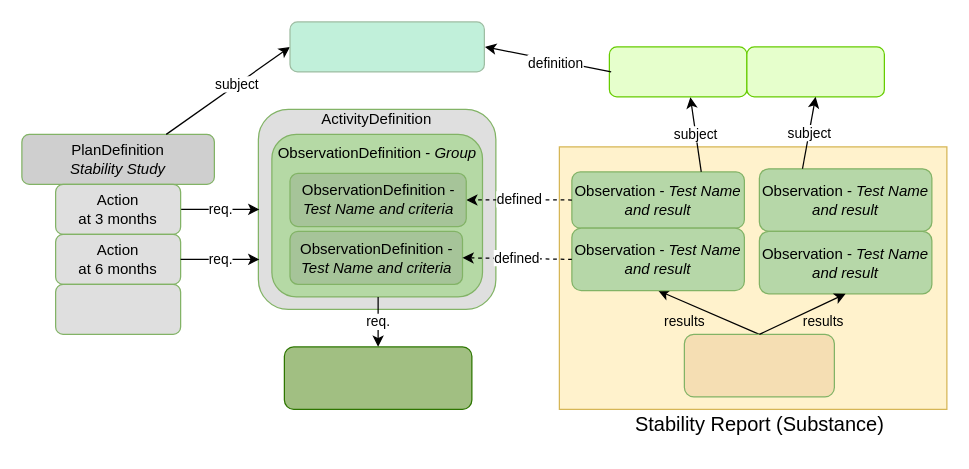
Some shapes in this 969 by 469 pixel diagram are drawn without their labels. The shapes that lost their labels are listed below. From the top down, each one's centre as x and y in pixels, then its label:
(386,46): SubstanceDefinition Stelbatolol
(677,71): Substance Batch 1
(815,71): Substance Batch 2
(117,308): Action at 9 months etc.
(377,377): SpecimenDefinition - Storage conditions and duration
(758,365): DiagnosticReport List of values and conclusion
